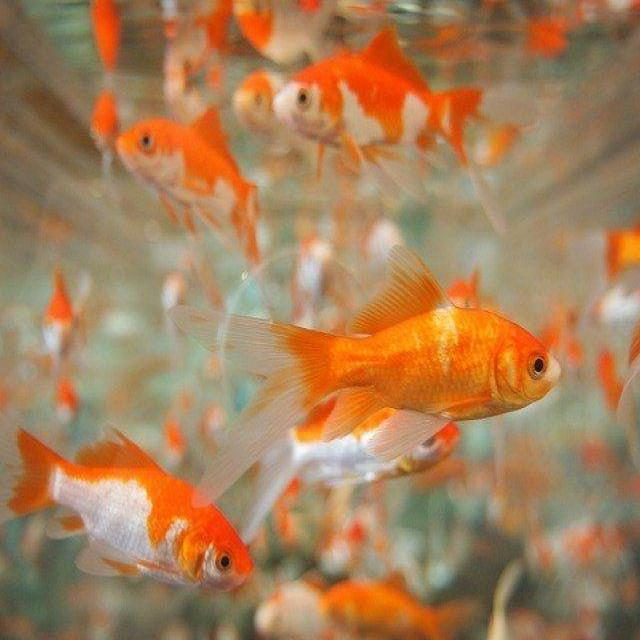GoldFish: (164, 246, 566, 506), (257, 27, 531, 237), (0, 412, 258, 600), (110, 103, 270, 262)
